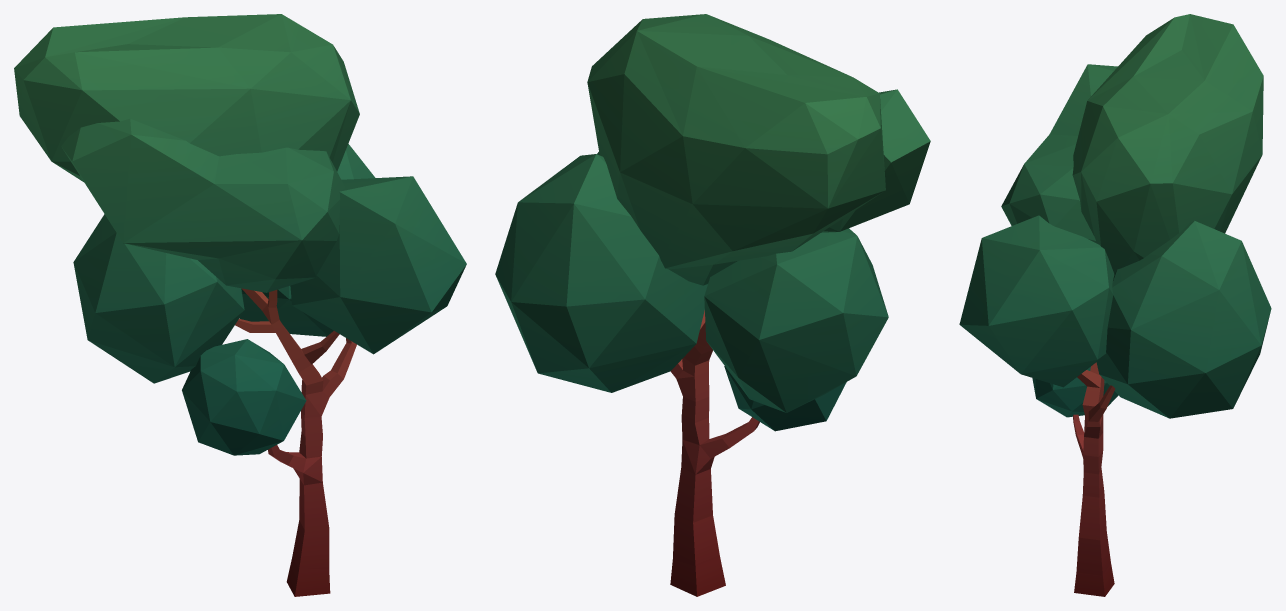
File: Gradient_Tree_Windswept_dark_green.glb
3 renders of one model, left to right at view 1: azimuth 30°, elevation 25°; view 2: azimuth 150°, elevation 25°; view 3: azimuth 270°, elevation 25°, orthographic. The views are drawn at different scales.
Parts seen in each view (by area): view 1: Windswept dark green g; view 2: Windswept dark green g; view 3: Windswept dark green g.
Boxes of the visible parts, <box> form: Windswept dark green g: <box>14,14,466,596</box>; Windswept dark green g: <box>495,14,930,596</box>; Windswept dark green g: <box>959,14,1271,596</box>.
Bounding box in the file's own units: 10.34 × 15.38 × 8.9.
Materials: 1 (1 with a texture image).
